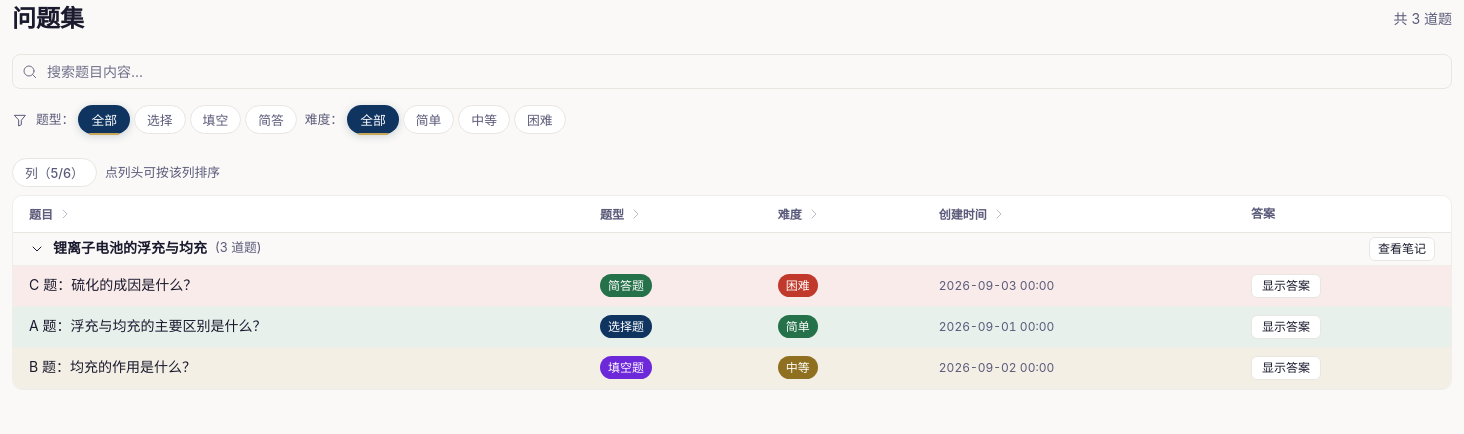
Test case: 问题集：筛选 chip（批次 E5 · 核心改动 ③） › 难度 chip 同样真的过滤，并且与题型是**与**关系
expect the text "C 题：硫化的成因是什么？" is shown: met, box [29,276,197,293]
Click the button "简单".
click(429, 120)  # box [403,105,454,134]
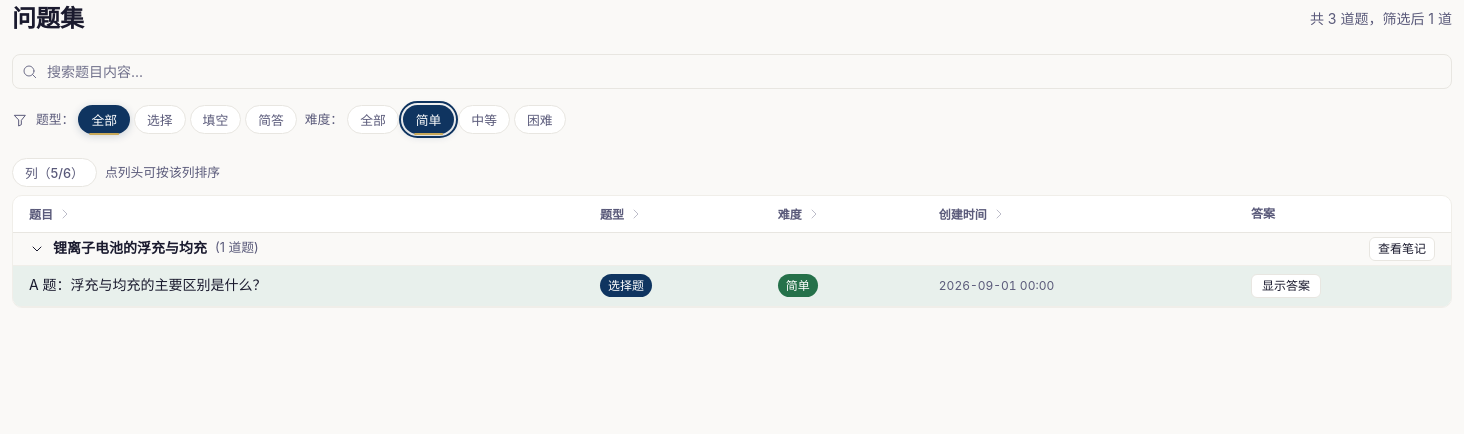
Click the button "填空".
click(215, 120)  # box [190,105,241,134]
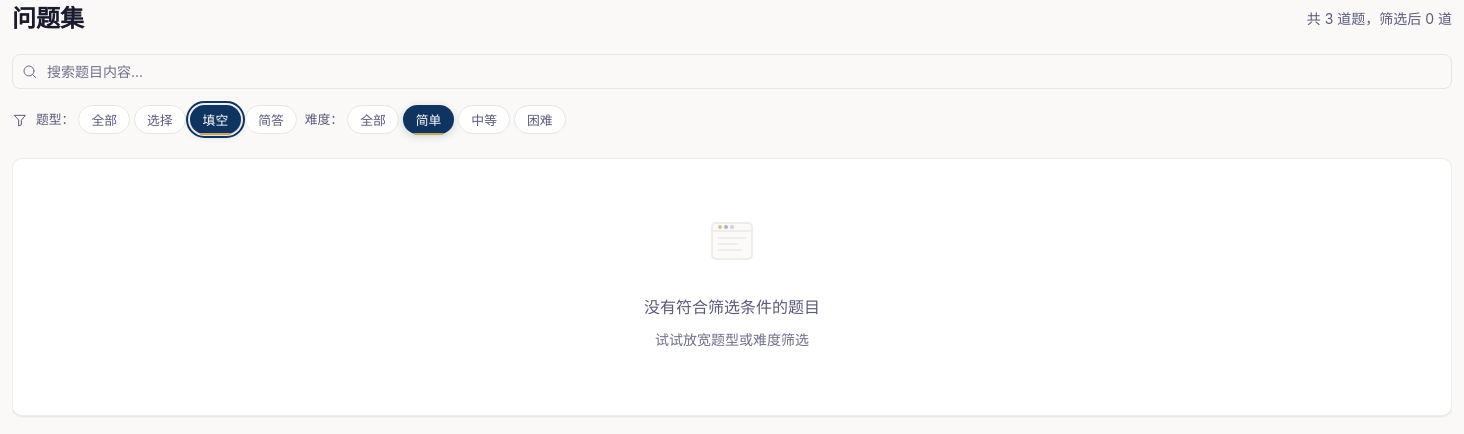
expect the text "没有符合筛选条件的题目" is shown: met, box [644,297,820,317]
